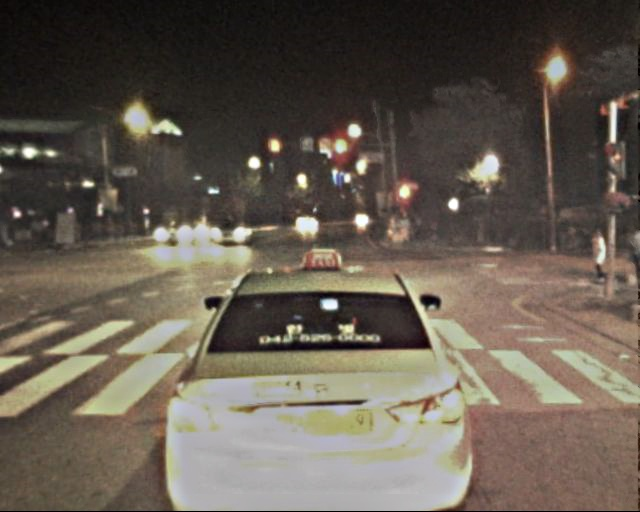person: (588, 228, 612, 287), (408, 218, 444, 245), (2, 213, 20, 246)
